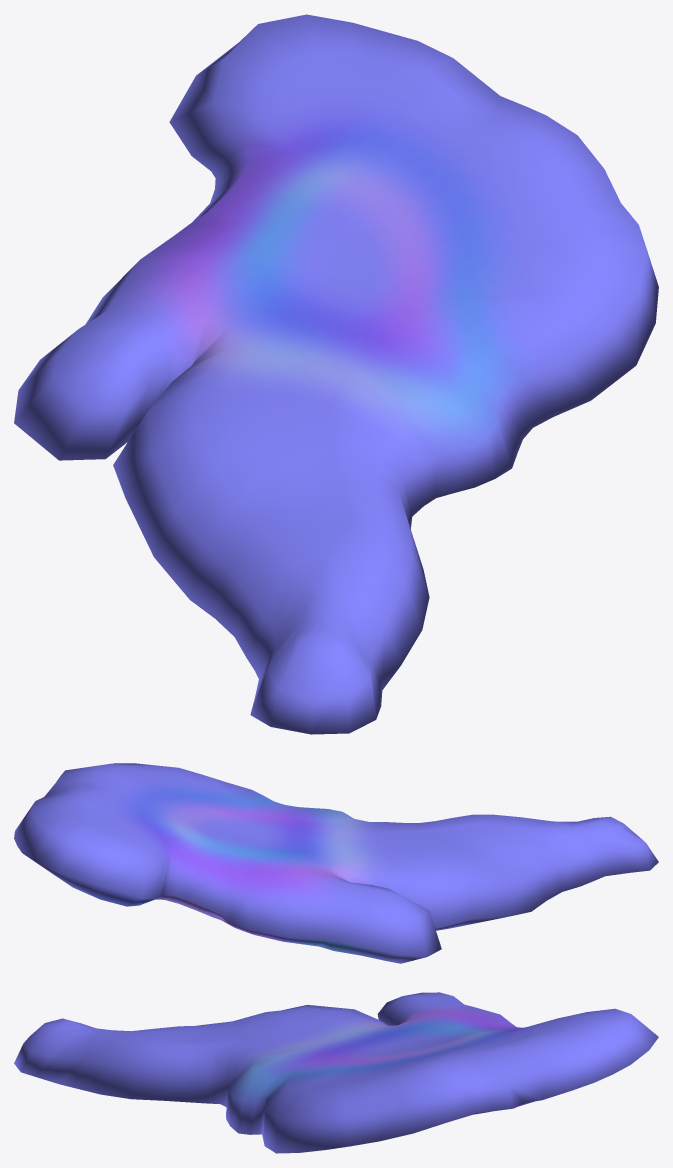
File: p_mesh_trashbot_destruction_arenagoop02_pose0.fbx
3 views of the same model, one above another, from view 1: azimuth 30°, elevation 25°; view 2: azimuth 150°, elevation 25°; view 3: azimuth 270°, elevation 25° (orthographic). The views are drawn at different scales.
Parts seen in each view (by area): view 1: trashbot_destruction_goop2_pose0; view 2: trashbot_destruction_goop2_pose0; view 3: trashbot_destruction_goop2_pose0.
Part boxes in pixels (x1=…): trashbot_destruction_goop2_pose0: x1=14, y1=14, x2=658, y2=734; trashbot_destruction_goop2_pose0: x1=14, y1=763, x2=658, y2=963; trashbot_destruction_goop2_pose0: x1=14, y1=992, x2=658, y2=1153.
Size of the model in its own units: 27.92 by 11.33 by 38.12.
